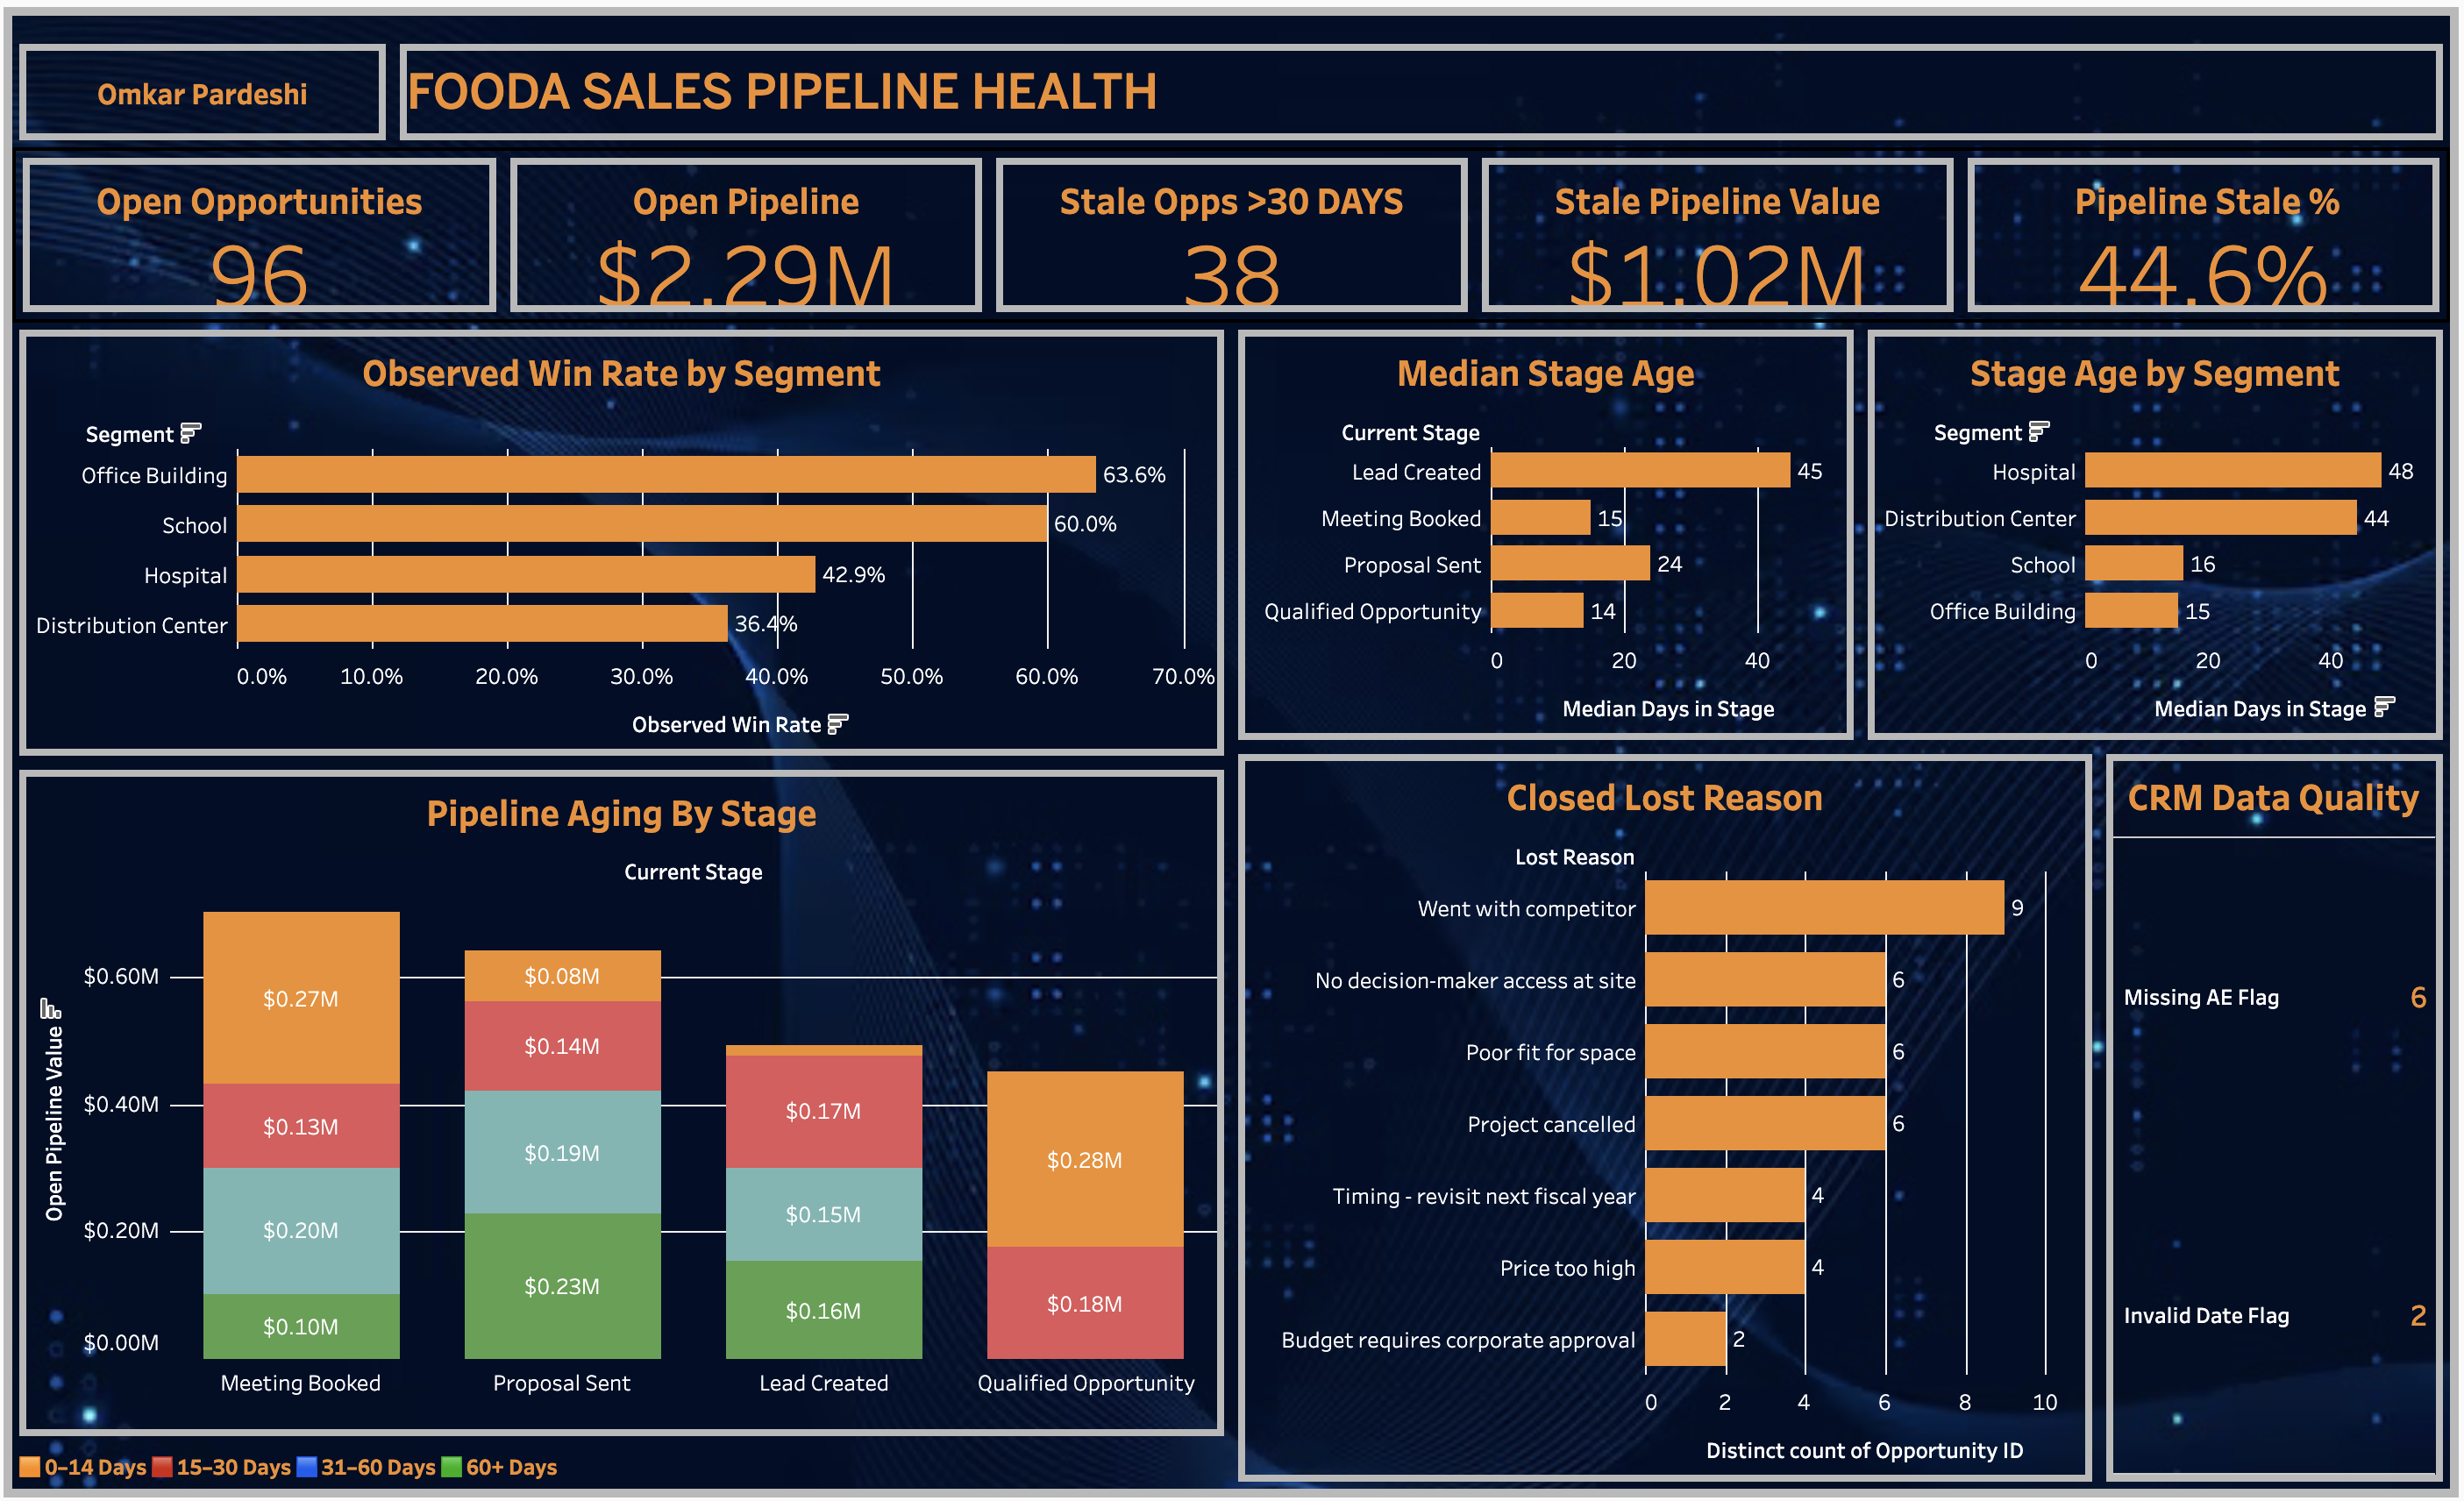

Layout of this report page (visuals, bound fields, positions):
{"tool":"tableau","page":{"name":"h.3","canvas":[1400,850],"ordinal":1},"visuals":[{"type":"image","box":[8,8,1384,834]},{"type":"text","box":[5,17,217,63]},{"type":"text","box":[222,17,1173,63]},{"type":"worksheet","title":"Sheet 4","mark":"Automatic","box":[7,82,278,96]},{"type":"worksheet","title":"Sheet 5","mark":"Automatic","box":[285,82,277,96]},{"type":"worksheet","title":"KPI - Stale Opportunities","mark":"Automatic","box":[562,82,277,96]},{"type":"worksheet","title":"KPI - Stale Pipeline","mark":"Automatic","box":[839,82,277,96]},{"type":"worksheet","title":"KPI - Pipeline Stale %","mark":"Automatic","box":[1116,82,277,96]},{"type":"worksheet","title":"Observed Win Rate by Segment","mark":"Bar","rows":["Segment"],"cols":["Calculation_0695756699062287"],"box":[5,180,695,251]},{"type":"worksheet","title":"Median Stage Age","mark":"Bar","rows":["Current Stage"],"cols":["Calculation_0695756679917571"],"box":[700,180,359.4,242.1]},{"type":"worksheet","title":"Stage Age by Segment","mark":"Bar","rows":["Segment"],"cols":["Calculation_0695756679917571"],"box":[1059.4,180,335.6,242.1]},{"type":"worksheet","title":"Closed Lost Reasons","mark":"Automatic","rows":["Lost Reason"],"cols":["Opportunity ID"],"box":[700,422.1,495.4,422.9]},{"type":"worksheet","title":"CRM Data Quality","mark":"Automatic","box":[1195.4,422.1,199.6,422.9]},{"type":"worksheet","title":"Pipeline Aging by Stage","mark":"Automatic","rows":["Calculation_0695756697014281"],"cols":["Current Stage"],"box":[5,431,695,389]},{"type":"text","box":[5,820,695,25]}]}

Visuals, with their boxes in screenshot pixels (x1, y1, x2, y2), scaled from the page's 1400x850 canvas onto the 2464x1501 screenshot:
image: l=14, t=14, r=2450, b=1487
text: l=9, t=30, r=391, b=141
text: l=391, t=30, r=2455, b=141
"Sheet 4" worksheet: l=12, t=145, r=502, b=315
"Sheet 5" worksheet: l=502, t=145, r=989, b=315
"KPI - Stale Opportunities" worksheet: l=989, t=145, r=1477, b=315
"KPI - Stale Pipeline" worksheet: l=1477, t=145, r=1964, b=315
"KPI - Pipeline Stale %" worksheet: l=1964, t=145, r=2452, b=315
"Observed Win Rate by Segment" worksheet (Bar marks): l=9, t=318, r=1232, b=761
"Median Stage Age" worksheet (Bar marks): l=1232, t=318, r=1864, b=745
"Stage Age by Segment" worksheet (Bar marks): l=1864, t=318, r=2455, b=745
"Closed Lost Reasons" worksheet: l=1232, t=745, r=2104, b=1492
"CRM Data Quality" worksheet: l=2104, t=745, r=2455, b=1492
"Pipeline Aging by Stage" worksheet: l=9, t=761, r=1232, b=1448
text: l=9, t=1448, r=1232, b=1492
